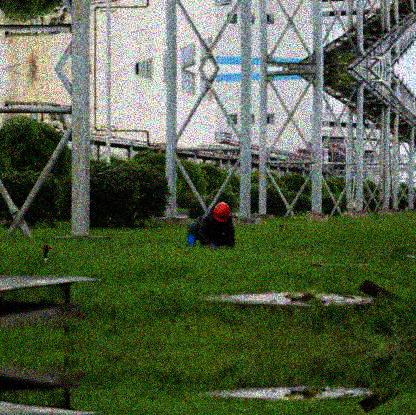helmet: (212, 202, 232, 226)
